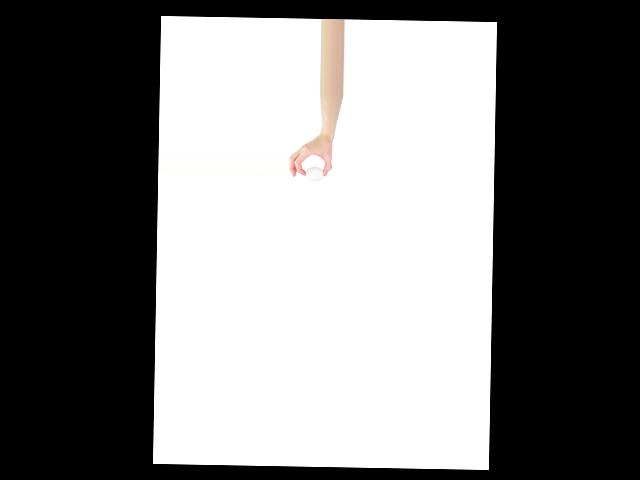egg: (305, 166, 324, 181)
